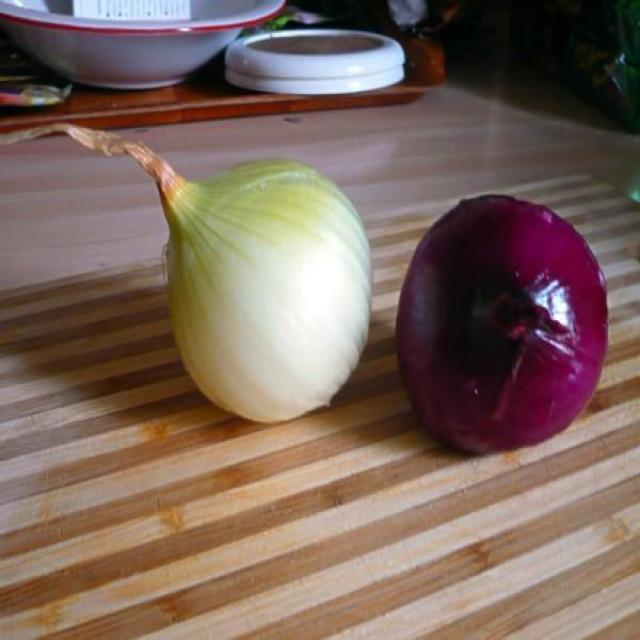Onion: (0, 121, 371, 424), (391, 192, 607, 457)
